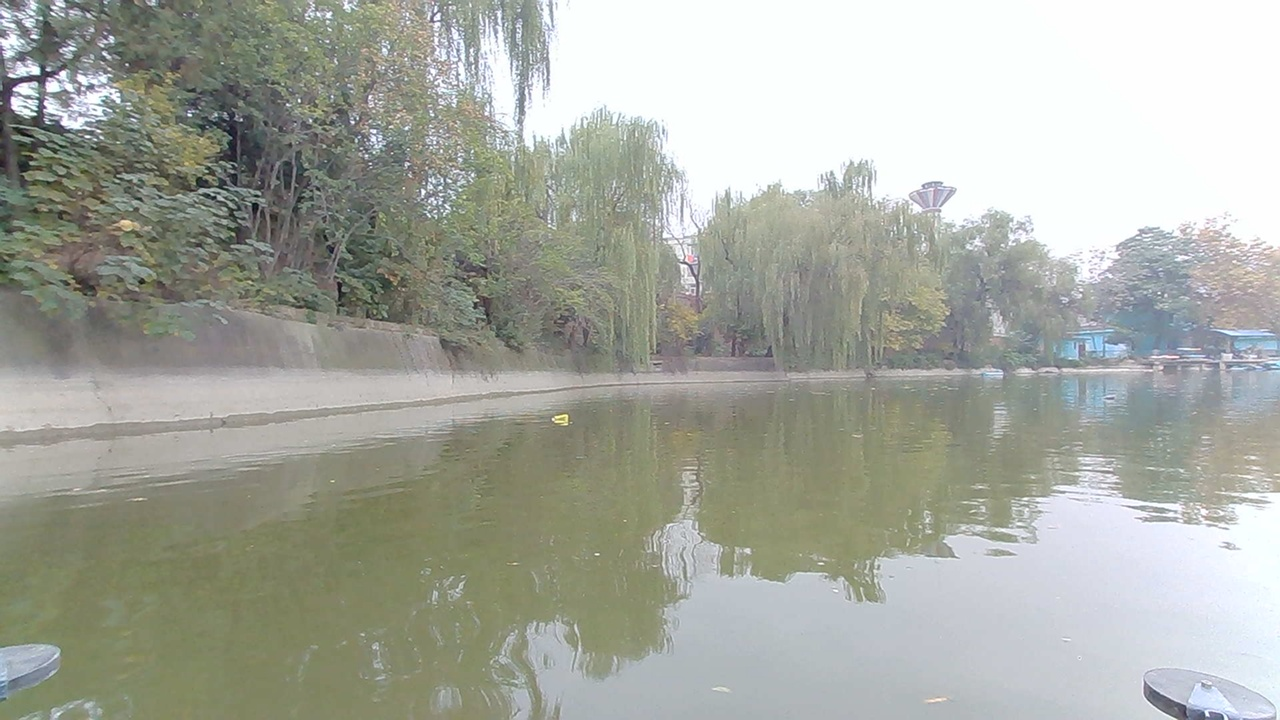bottle: (548, 408, 582, 431), (1095, 386, 1124, 406)
